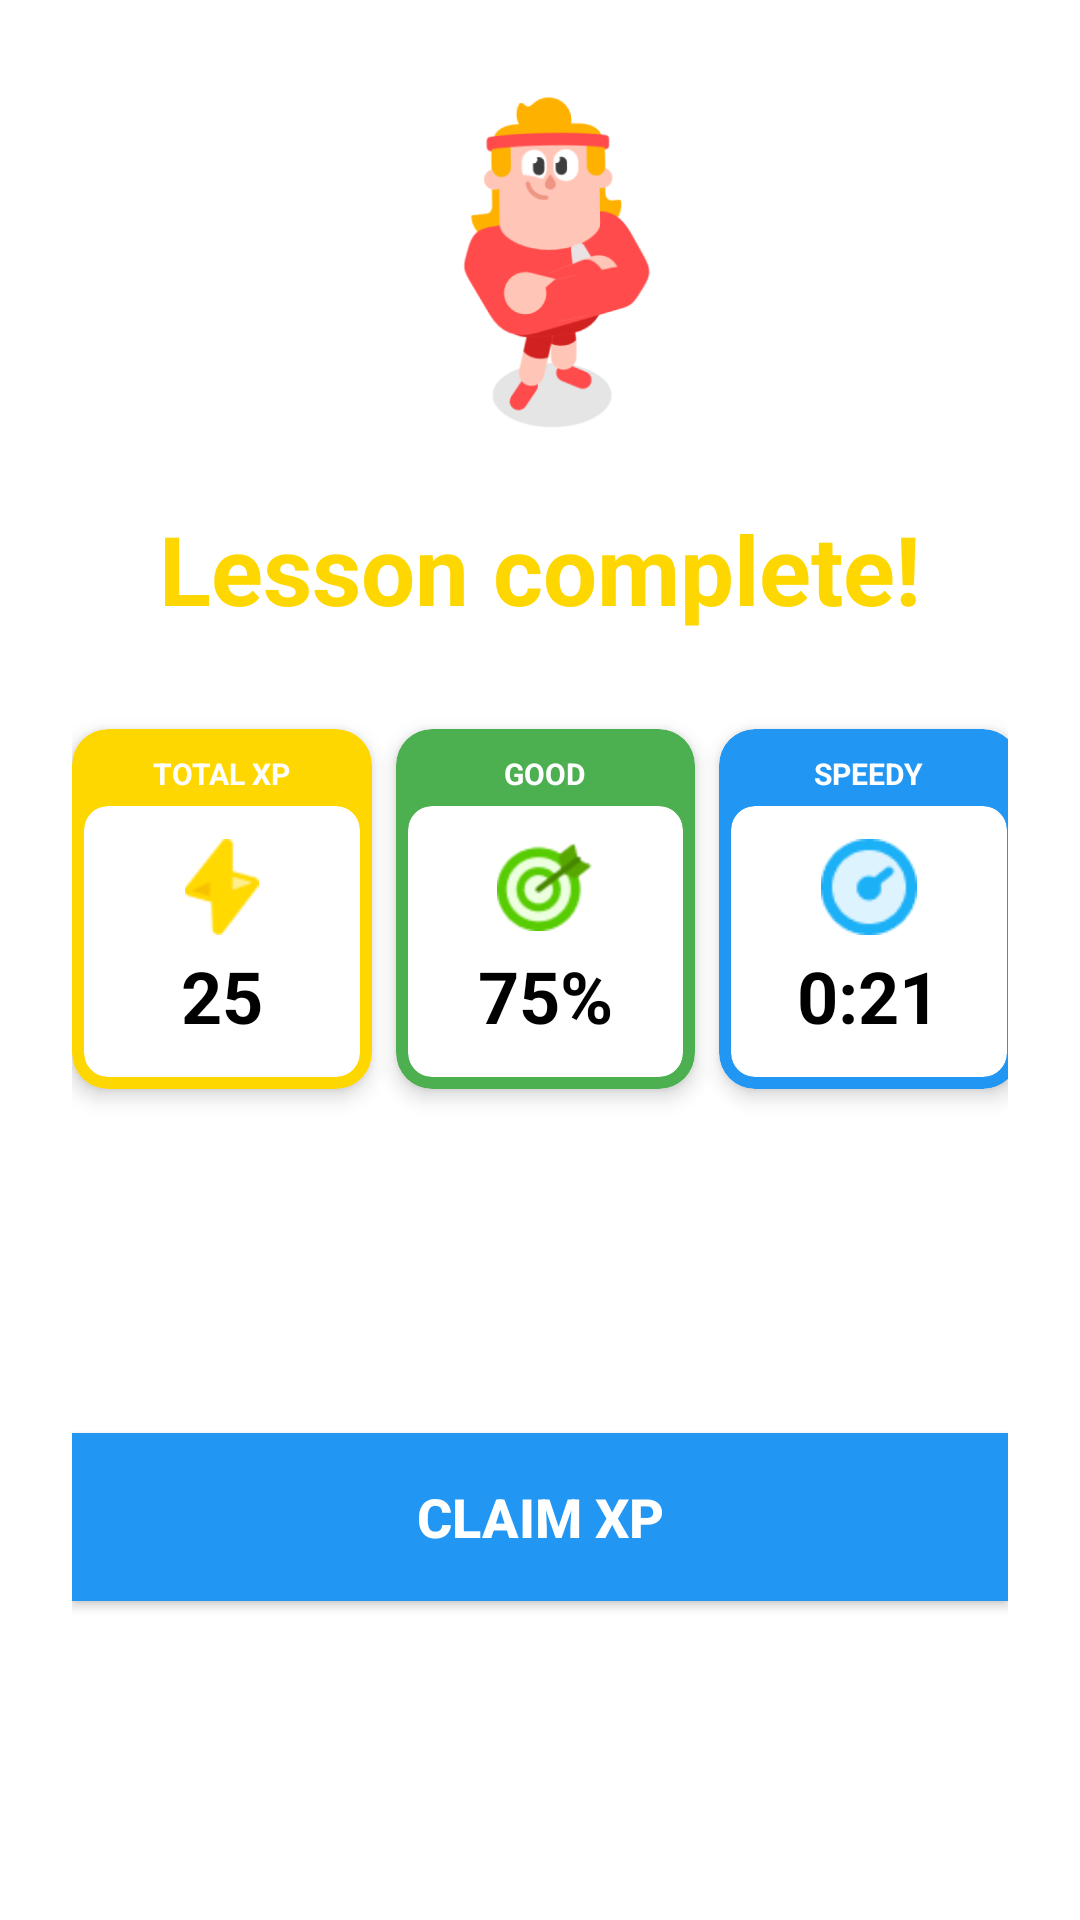

Where to tap for icons on this 1080 × 1920 app screen, as (x,y):
clock: (869,887)
lightning bolt: (222,887)
target: (544,887)
